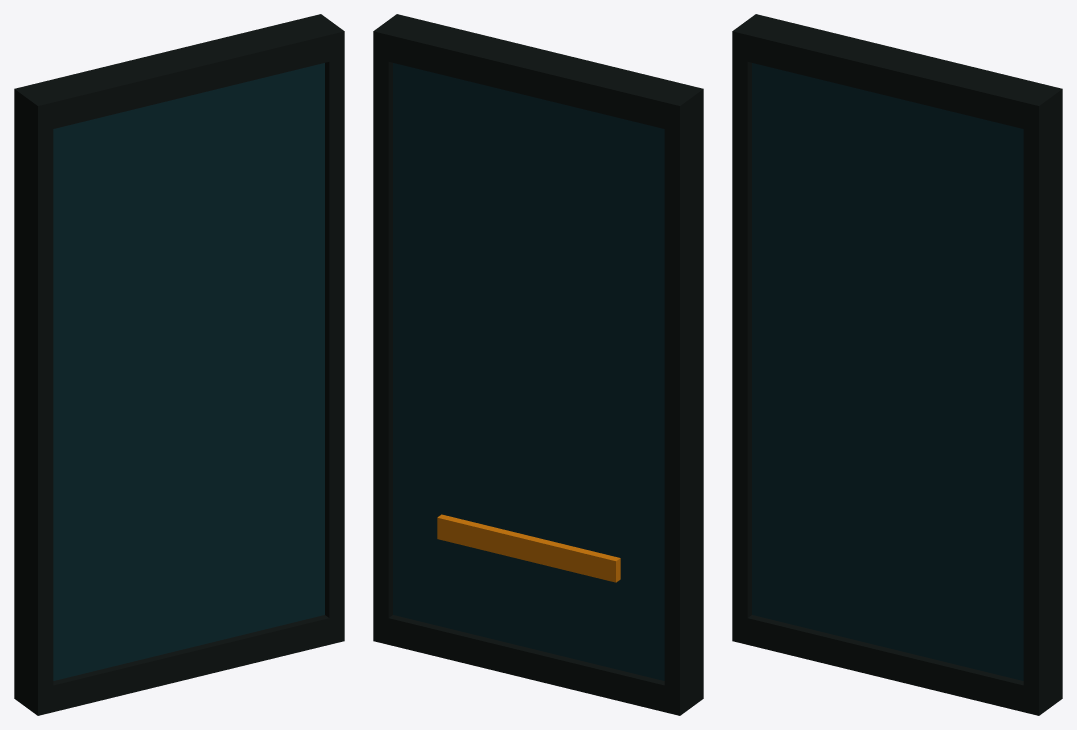
Rendered from SM_Bogota_PuertaEstacion.fbx.
3 views of the same model, side by side, from view 1: azimuth 30°, elevation 25°; view 2: azimuth 150°, elevation 25°; view 3: azimuth 330°, elevation 25° (orthographic).
Visible parts, largest first — view 1: SM_Bogota_PuertaEstacion; view 2: SM_Bogota_PuertaEstacion; view 3: SM_Bogota_PuertaEstacion.
Part boxes in pixels (x1,y1,x2,y2): SM_Bogota_PuertaEstacion: (14, 14, 344, 715); SM_Bogota_PuertaEstacion: (373, 14, 703, 715); SM_Bogota_PuertaEstacion: (732, 14, 1062, 715).
Bounding box in the file's own units: 1.2 × 0.16 × 2.28.
